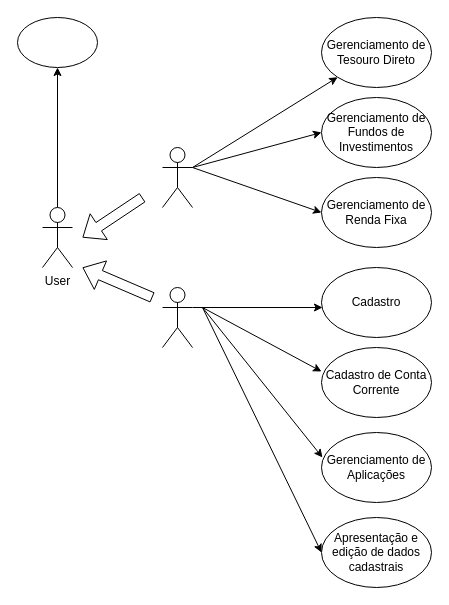
The diagram is 449 pixels wide and 605 high, and some of its shapes have lost their labels. Each missing label, with the centre of its shape:
"Admin" goes at pixel 177 177.
"Customer" goes at pixel 177 317.
"Login" goes at pixel 57 42.
